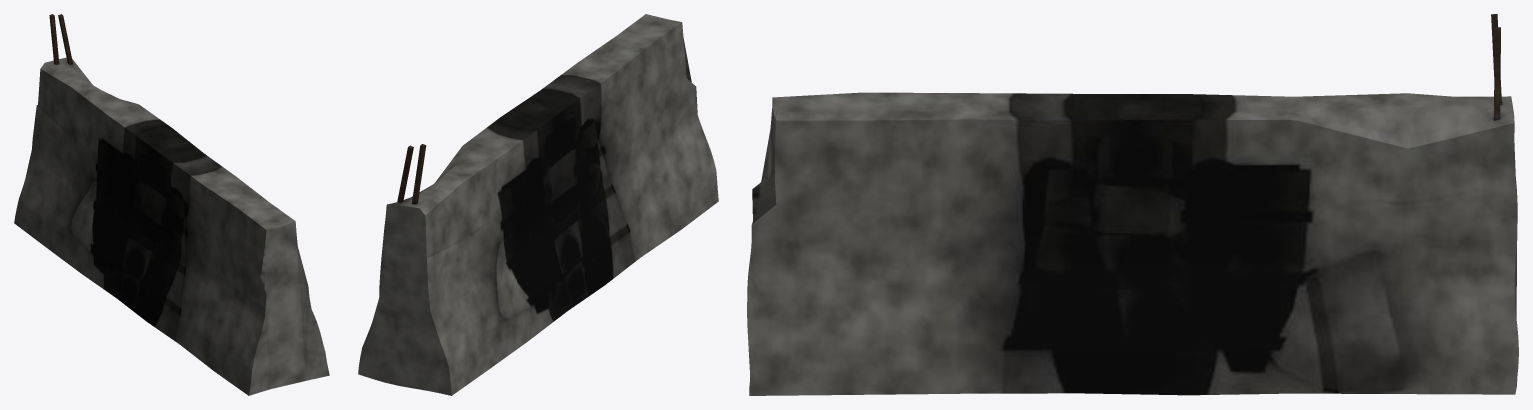
File: barreira.glb
The picture shows the model from 3 angles, left to right: view 1: azimuth 30°, elevation 25°; view 2: azimuth 150°, elevation 25°; view 3: azimuth 270°, elevation 25°; orthographic projection. The views are drawn at different scales.
Parts seen in each view (by area): view 1: barreira; view 2: barreira; view 3: barreira.
Boxes of the visible parts, box(x1,y1,x2,y2) form: barreira: box(14, 14, 329, 395); barreira: box(358, 14, 718, 395); barreira: box(747, 14, 1518, 395).
Bounding box in the file's own units: 0.6132 × 1.48 × 3.03.
Materials: 1 (1 with a texture image).
